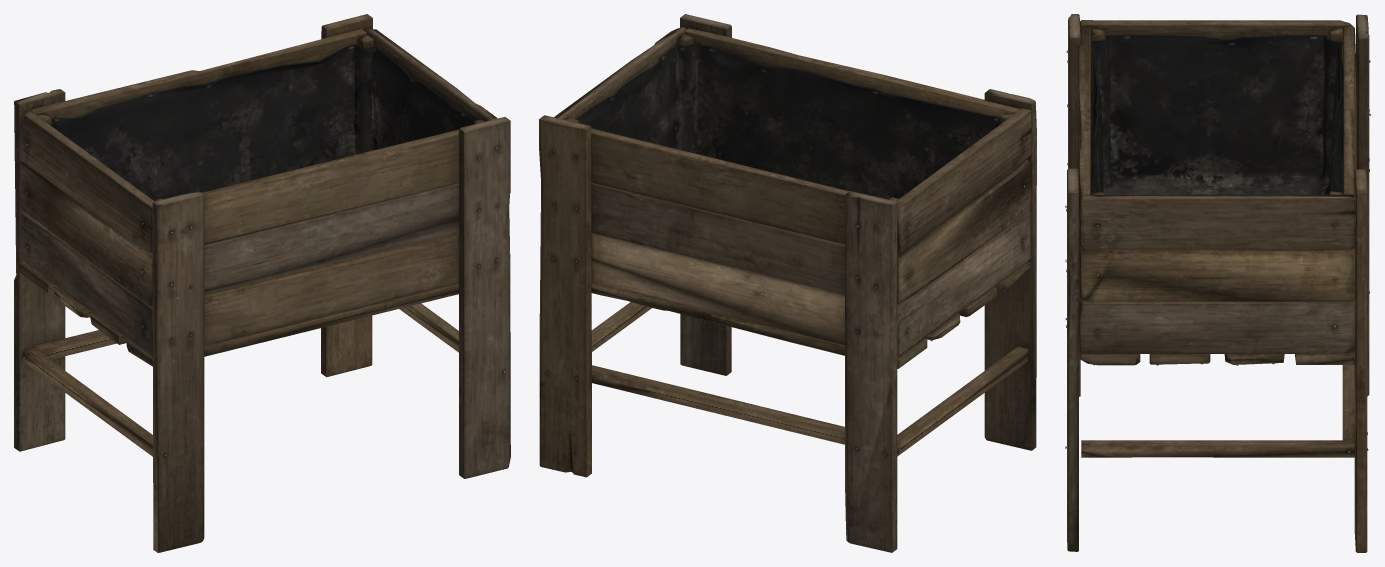
Rendered from ph-planter_box_03.glb.
The picture shows the model from 3 angles, left to right: view 1: azimuth 30°, elevation 25°; view 2: azimuth 150°, elevation 25°; view 3: azimuth 270°, elevation 25°; orthographic projection. The views are drawn at different scales.
Parts seen in each view (by area): view 1: planter_box_03; view 2: planter_box_03; view 3: planter_box_03.
Boxes of the visible parts, bbox=[...] form: planter_box_03: bbox=[14, 14, 510, 552]; planter_box_03: bbox=[539, 14, 1036, 552]; planter_box_03: bbox=[1065, 14, 1370, 552].
Bounding box in the file's own units: 0.914 × 0.8551 × 0.6556.
Materials: 1 (1 with a texture image).
